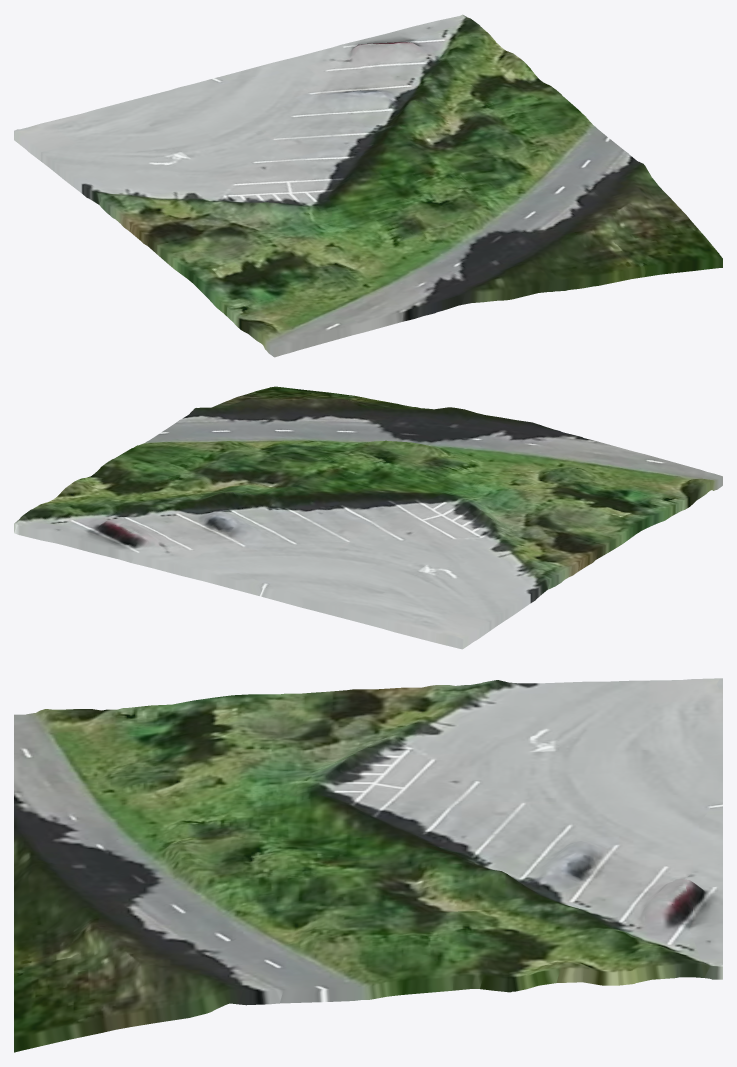
File: z20-167563-405178-h0-yup-uvflip-v3-world.glb
3 renders of one model, top to bottom at view 1: azimuth 30°, elevation 25°; view 2: azimuth 150°, elevation 25°; view 3: azimuth 270°, elevation 25°, orthographic. The views are drawn at different scales.
Bounding box in the file's own units: 30.16 × 4.48 × 30.32.
Materials: 1 (1 with a texture image).
